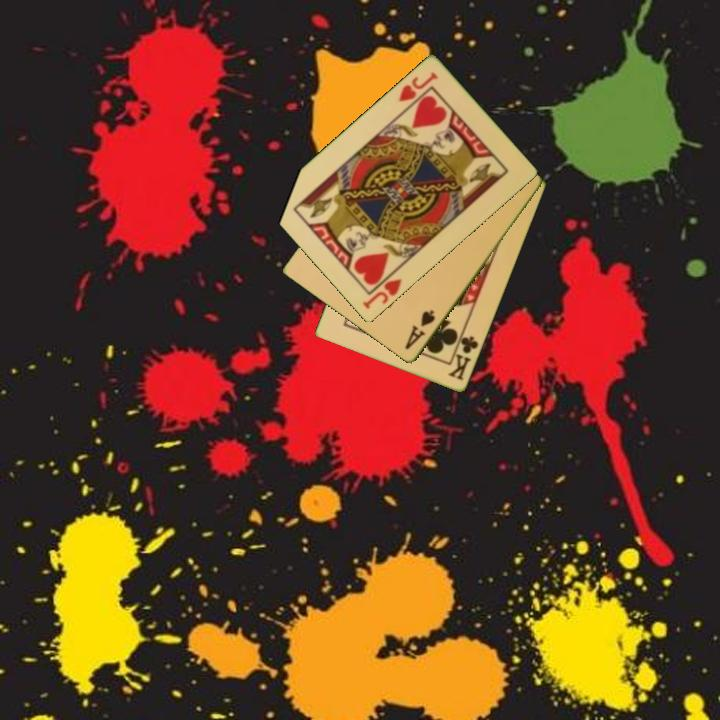As: (401, 306, 438, 353)
Jh: (359, 266, 405, 312), (395, 69, 441, 105)
Kc: (445, 328, 481, 384)
